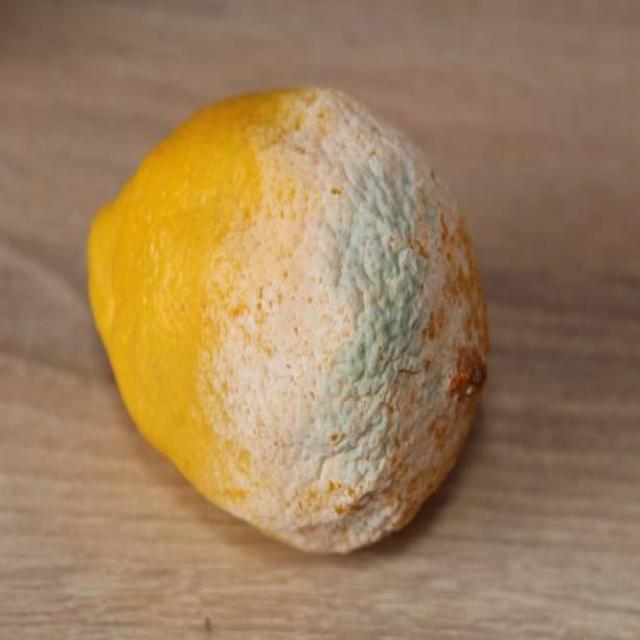Rotten: (86, 85, 488, 557)
